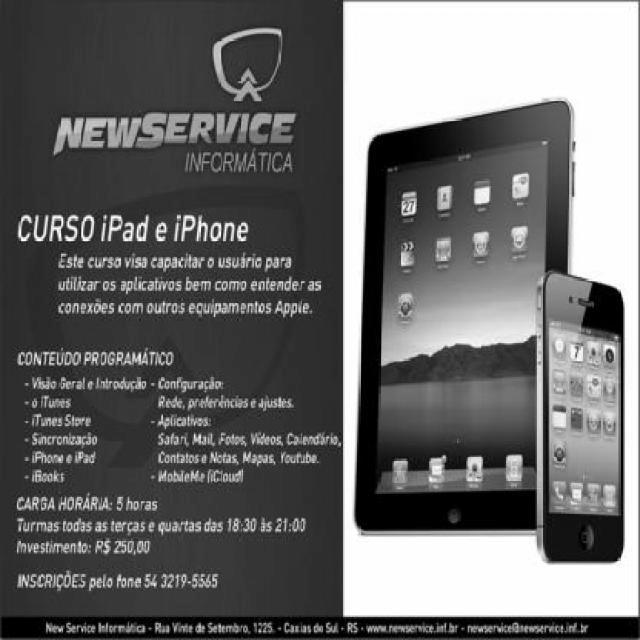fake: (542, 262, 630, 567)
